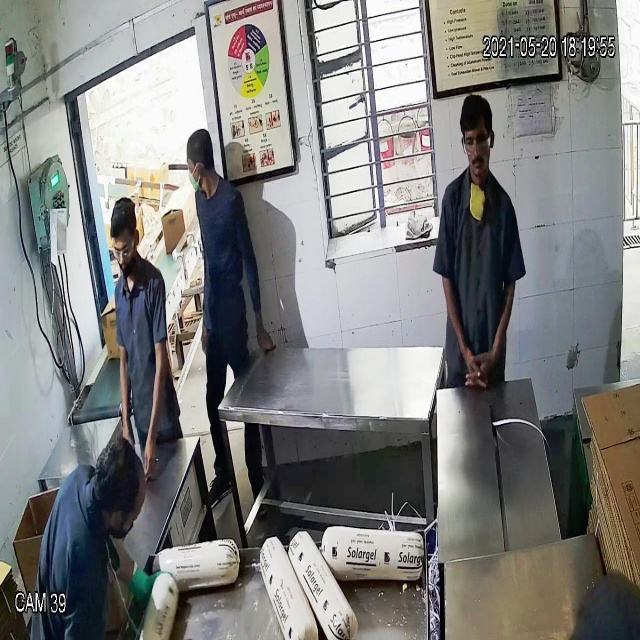Gafas: (458, 132, 494, 159), (106, 236, 136, 264)
